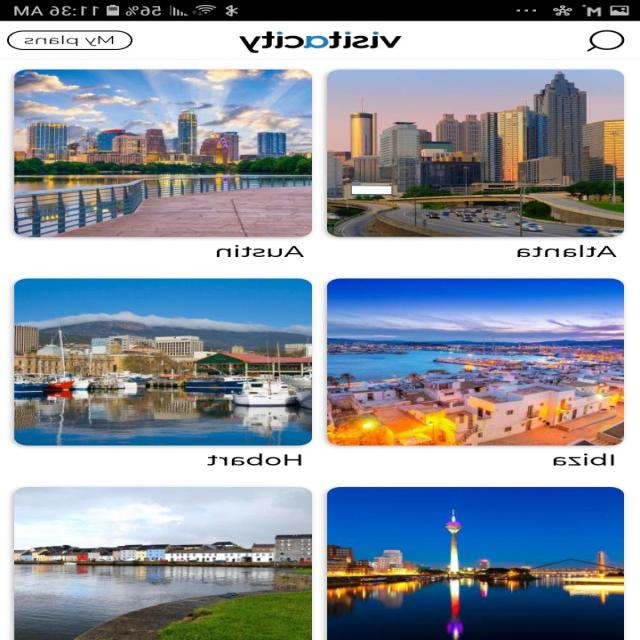Icon: (586, 29, 625, 52)
Image: (14, 69, 313, 237), (14, 278, 313, 445), (327, 69, 624, 237), (327, 278, 624, 445), (14, 486, 313, 640), (327, 486, 625, 640), (239, 31, 403, 53)
Text: (207, 452, 302, 466), (516, 245, 617, 257), (217, 244, 305, 257), (553, 452, 615, 466)
TextButton: (7, 30, 133, 50)
